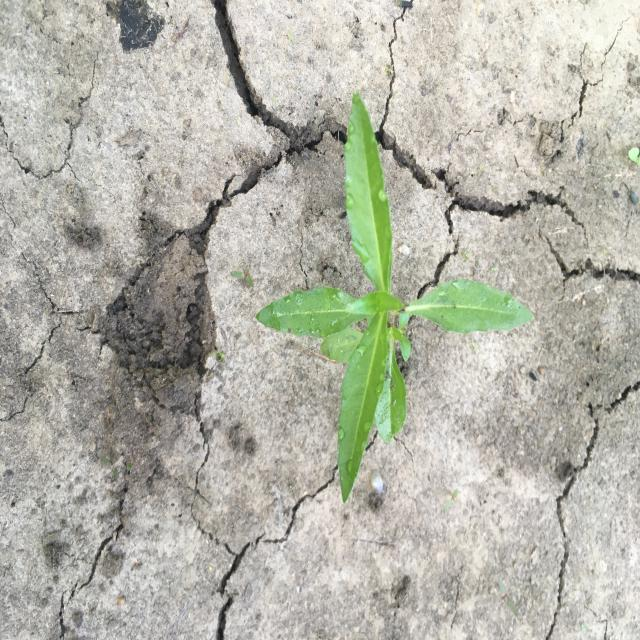Eclipta: (254, 90, 536, 504)
